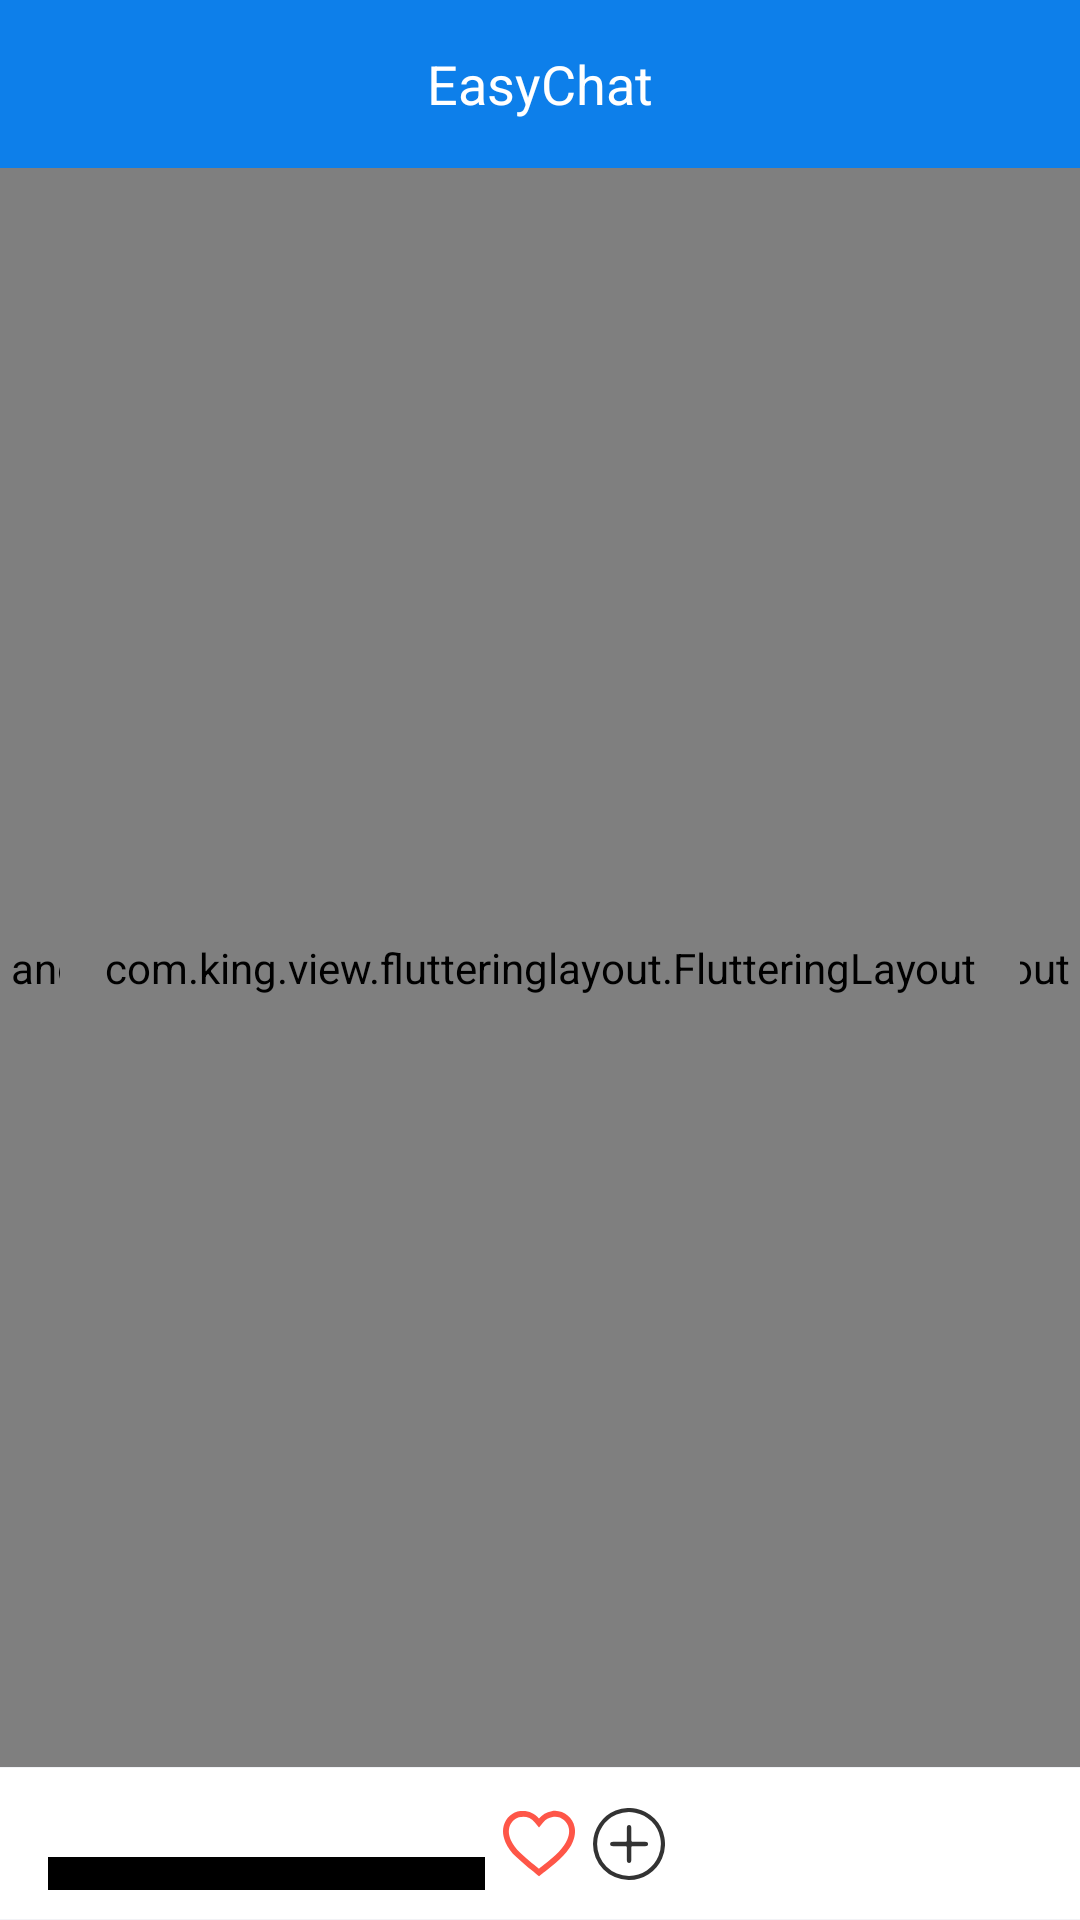

Named icons in this screenshot (1080w x 1920h) and their bounding boxes, (x1, y1, x2, y2):
ec add: (593, 1808, 665, 1880)
ec heart: (503, 1810, 575, 1876)
